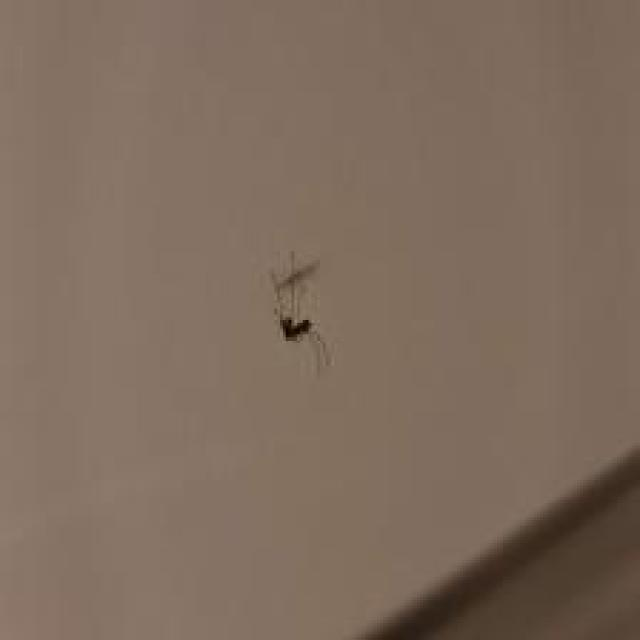Culex: (267, 249, 333, 374)
